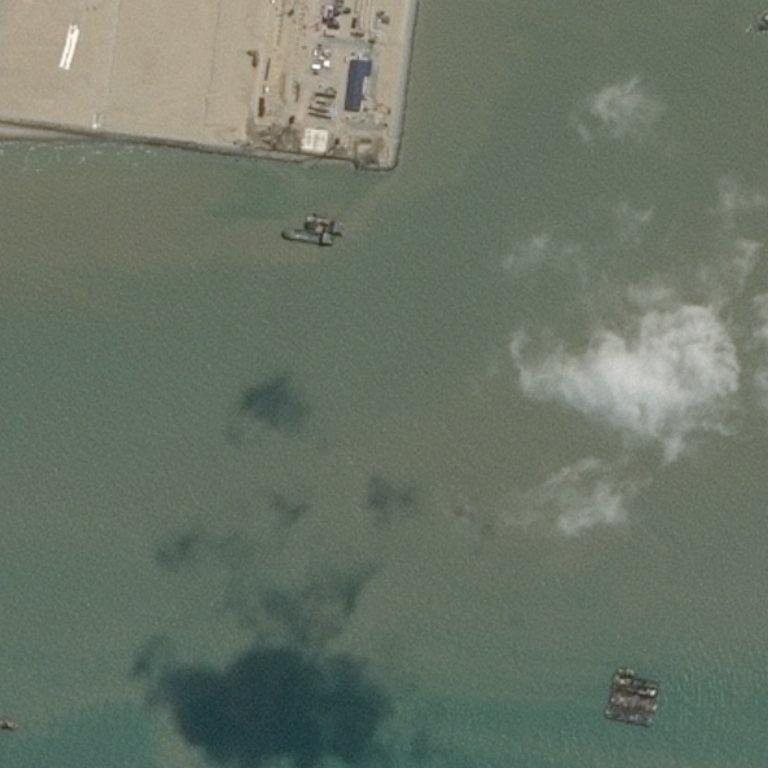ship: (282, 226, 334, 248), (284, 231, 287, 236), (328, 3, 331, 6), (313, 242, 317, 244)
